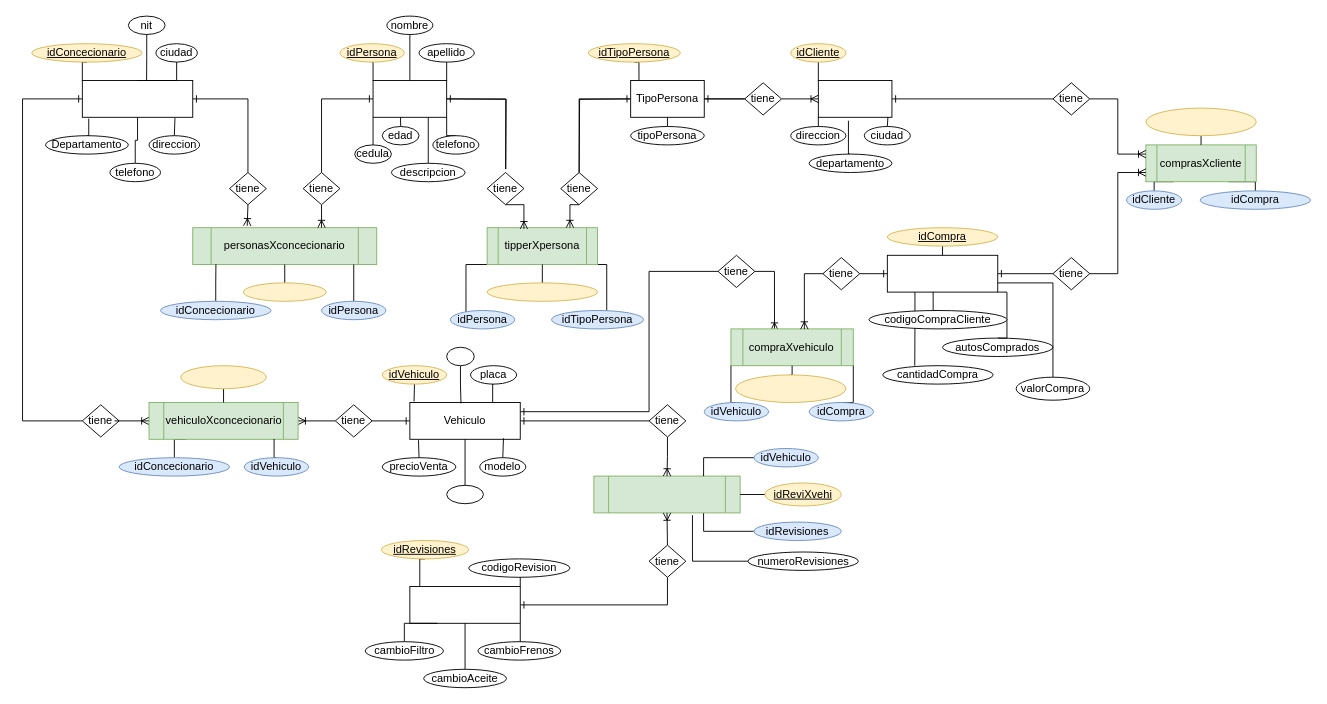
Image size: 1327x704. Some labels were removed from this diagram. The shapes that lost their labels are listed below. From the top down, each one's centre as x and y in pixels, then its label:
At point 137,98: "Concesionarios".
At point 409,98: "Personas".
At point 854,98: "Clientes".
At point 1200,121: "idComprasXcliente".
At point 284,291: "idPerXconce".
At point 542,291: "idTipPerXPersona".
At point 942,273: "Compras".
At point 460,356: "color".
At point 223,377: "idVehiXconce".
At point 790,388: "idCompraXvehiculo".
At point 464,494: "marca".
At point 666,494: "revisionesXvehiculo".
At point 464,604: "Revisiones".
